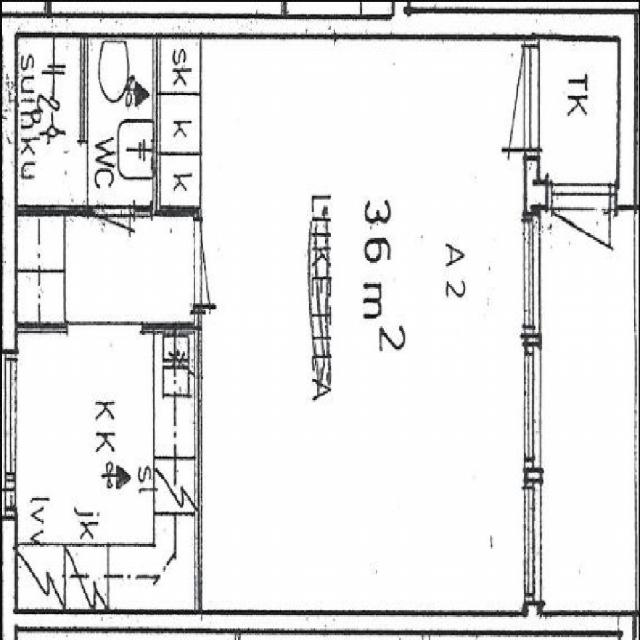door: (452, 46, 538, 150), (551, 181, 610, 292), (194, 219, 263, 306), (62, 230, 125, 314), (88, 206, 130, 276), (0, 230, 16, 314)
